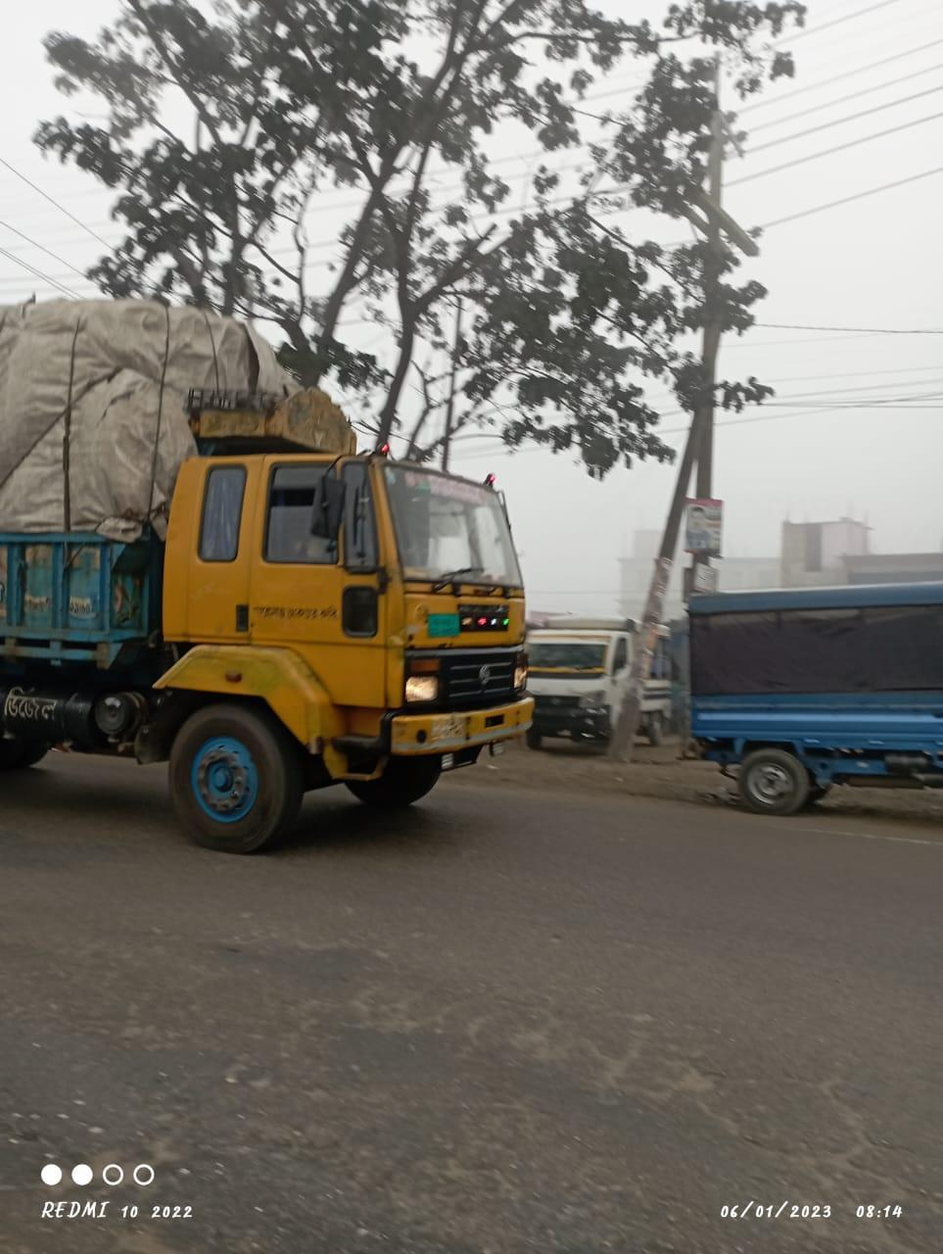Car: (683, 576, 943, 823), (525, 604, 674, 751)
Truck: (6, 290, 541, 882)
